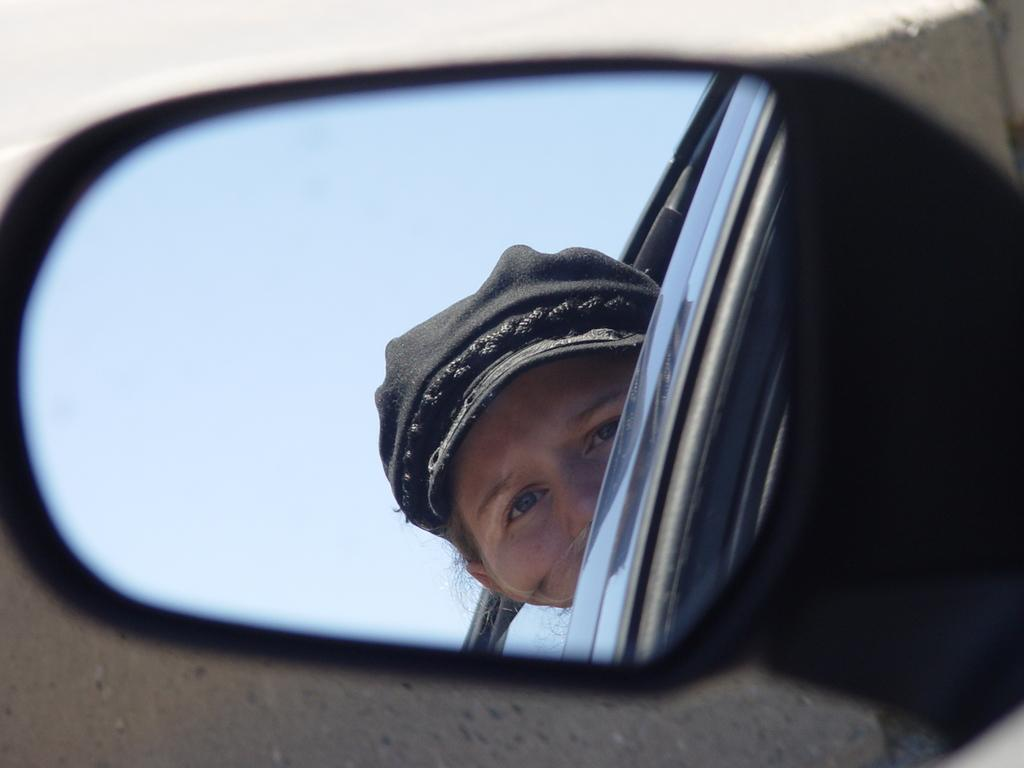Hat: (369, 241, 663, 542)
